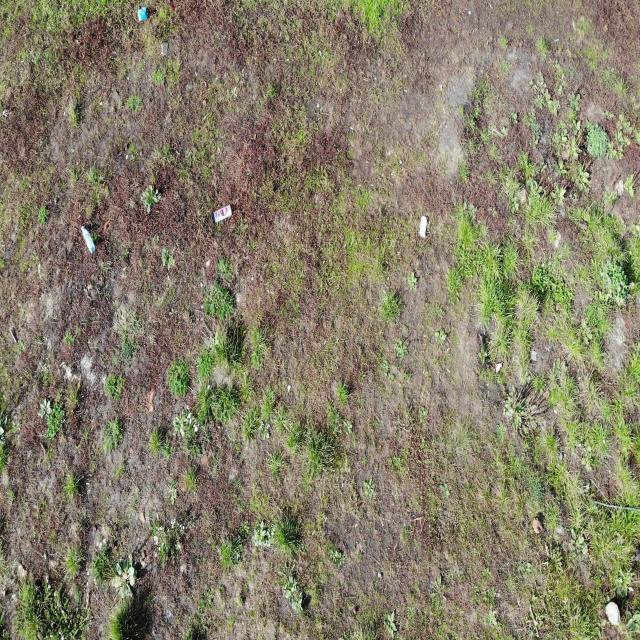rubbish: (212, 201, 235, 225), (80, 225, 96, 253), (136, 5, 148, 23), (418, 216, 428, 237)
